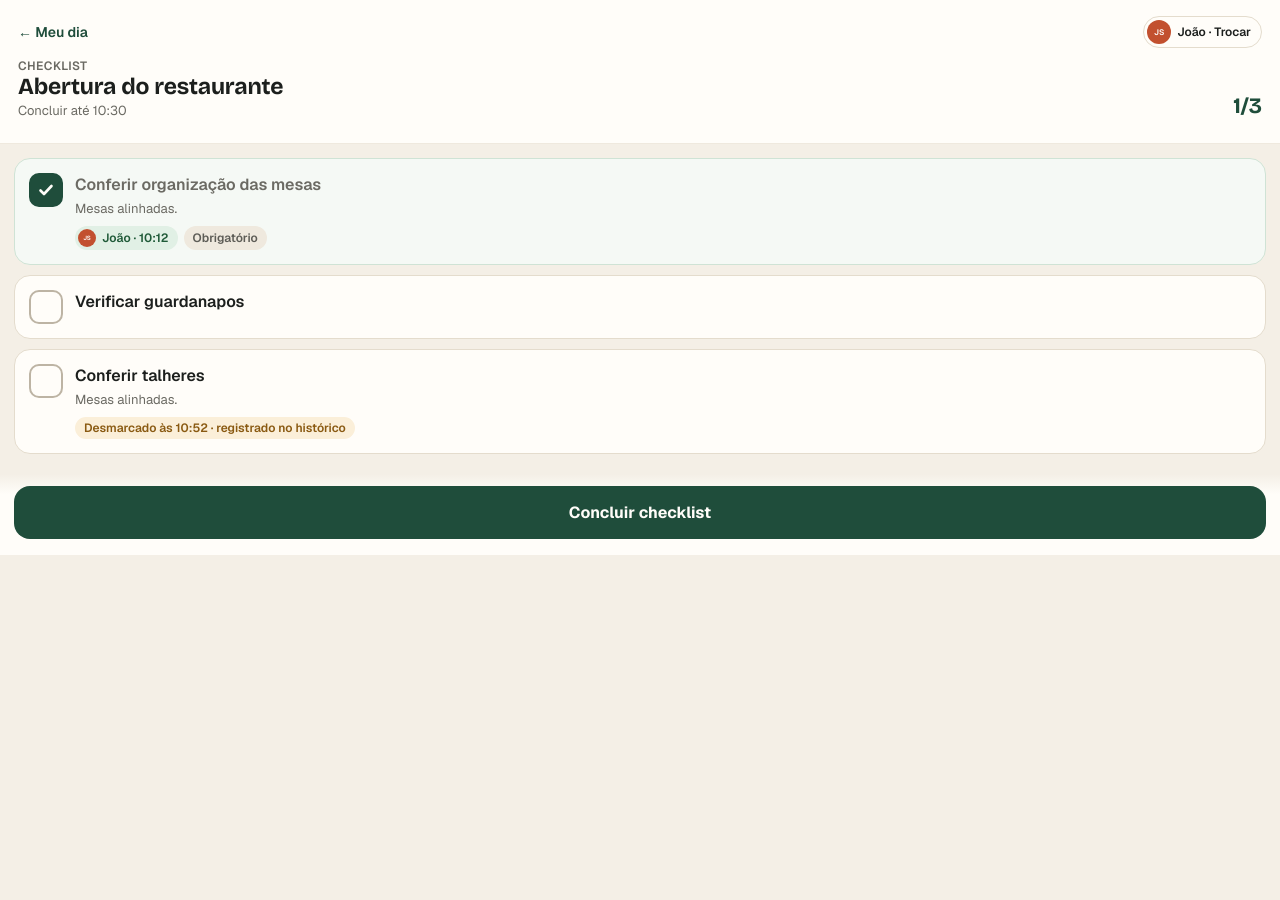
Test case: US06 — concluir checklist (web) › opcionais pendentes: salva, avisa e volta ao Meu dia (sucesso)
Click the button "Concluir checklist" at [640, 513], box [14,486,1266,539]
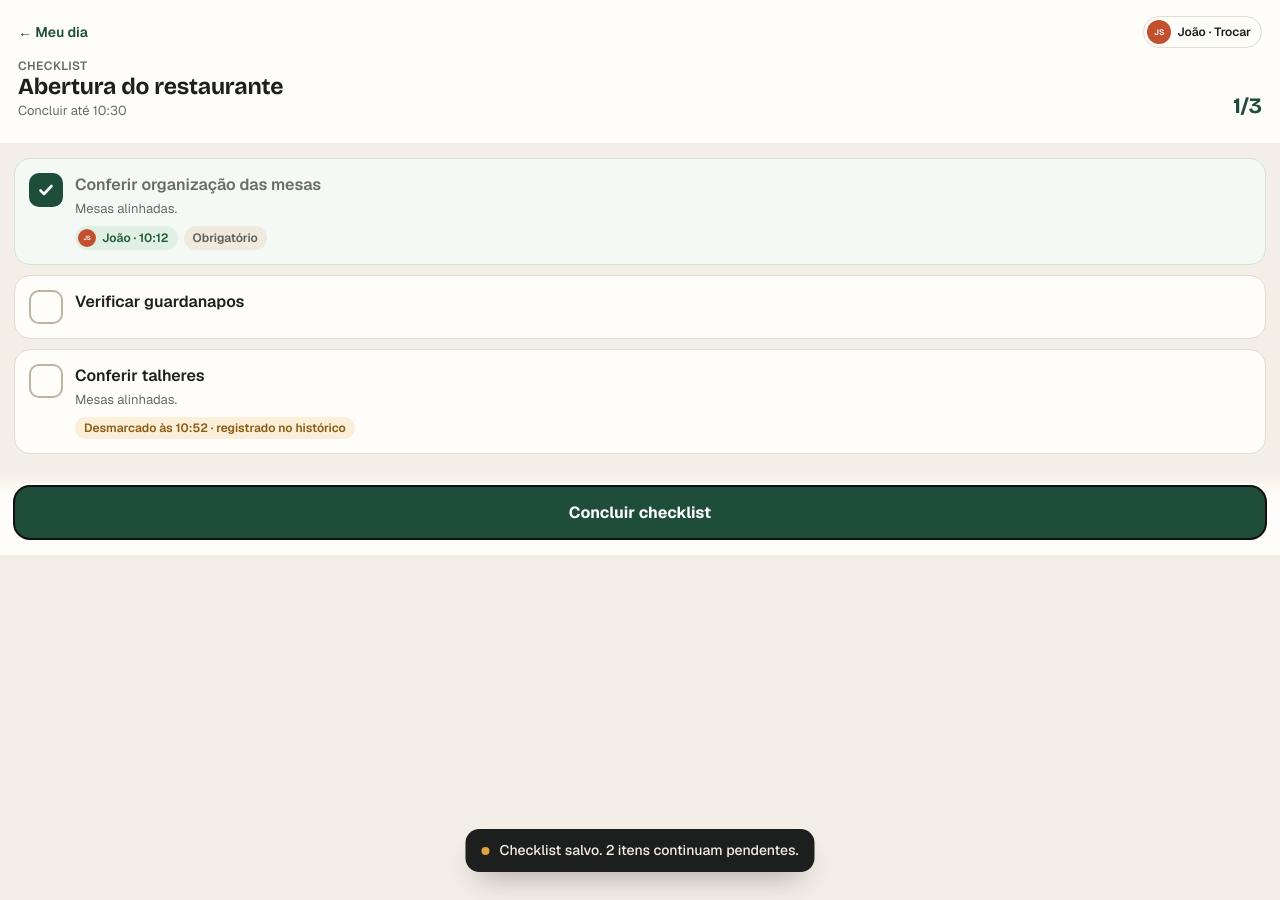
Check: the message reads "Checklist salvo. 2 itens continuam pendentes.", box [500,841,798,859]
